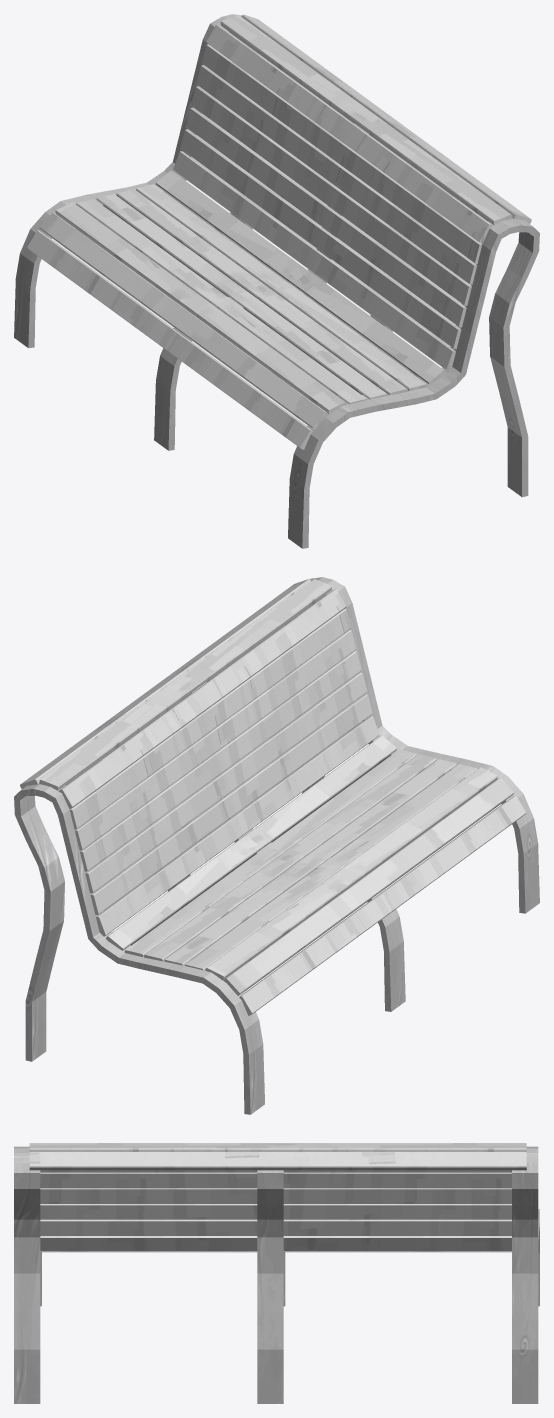
File: Chair_A_001.fbx
3 views of the same model, one above another, from view 1: azimuth 30°, elevation 25°; view 2: azimuth 150°, elevation 25°; view 3: azimuth 270°, elevation 25° (orthographic). The views are drawn at different scales.
Parts seen in each view (by area): view 1: Chair_A_001; view 2: Chair_A_001; view 3: Chair_A_001.
Part boxes in pixels (x1,y1,x2,y2): Chair_A_001: (14, 14, 539, 548); Chair_A_001: (14, 577, 539, 1114); Chair_A_001: (14, 1143, 539, 1403).
Bounding box in the file's own units: 70.11 × 78.22 × 148.
Materials: 2 (2 with a texture image).
